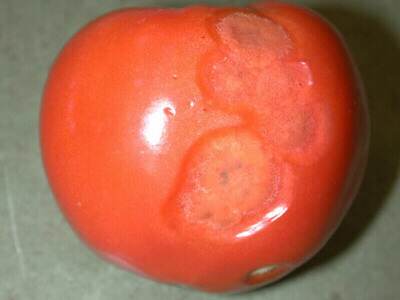anthracnose: (184, 124, 289, 248)
